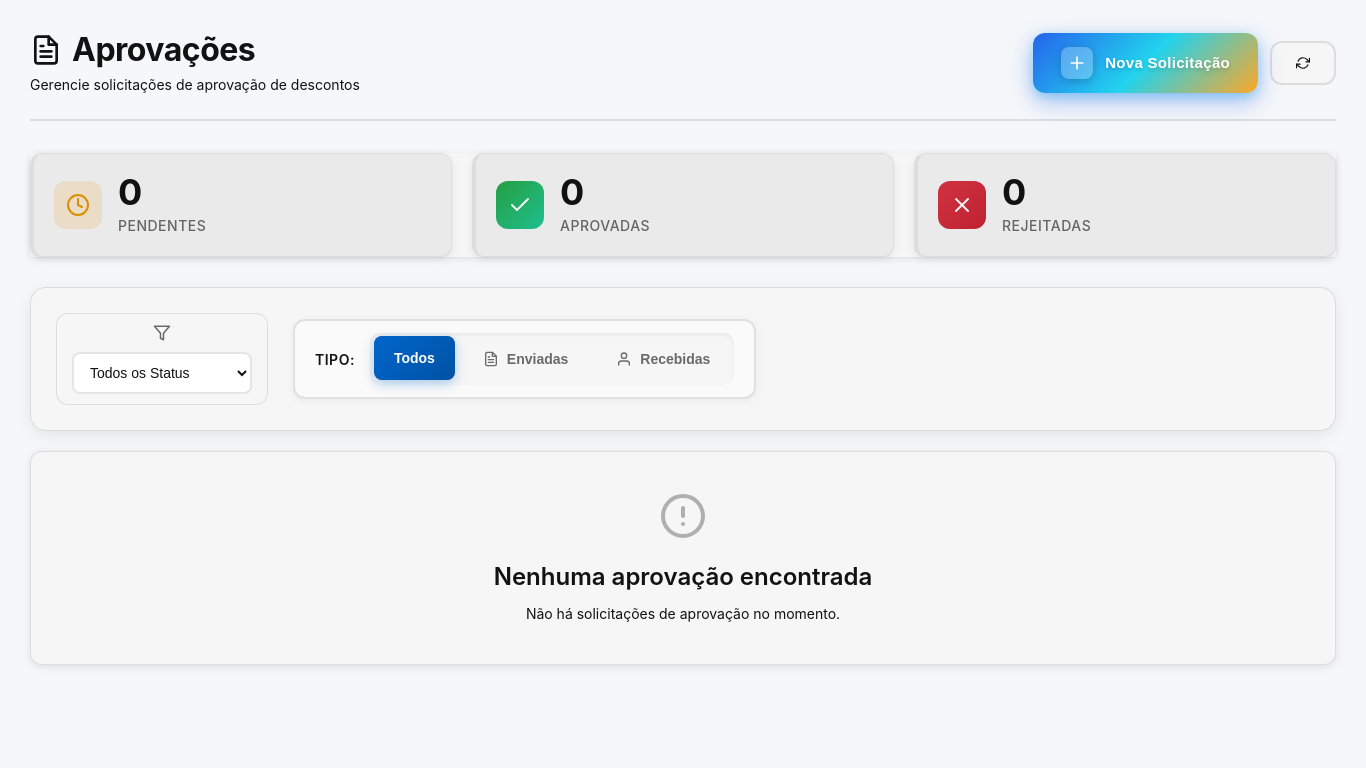
Test: [RN-141.09] o modal esconde só a proposta com aprovação que vale; a decidida por quem pediu continua na lista
Click the button "Nova Solicitação" at (1146, 62), box [1033,32,1258,92]
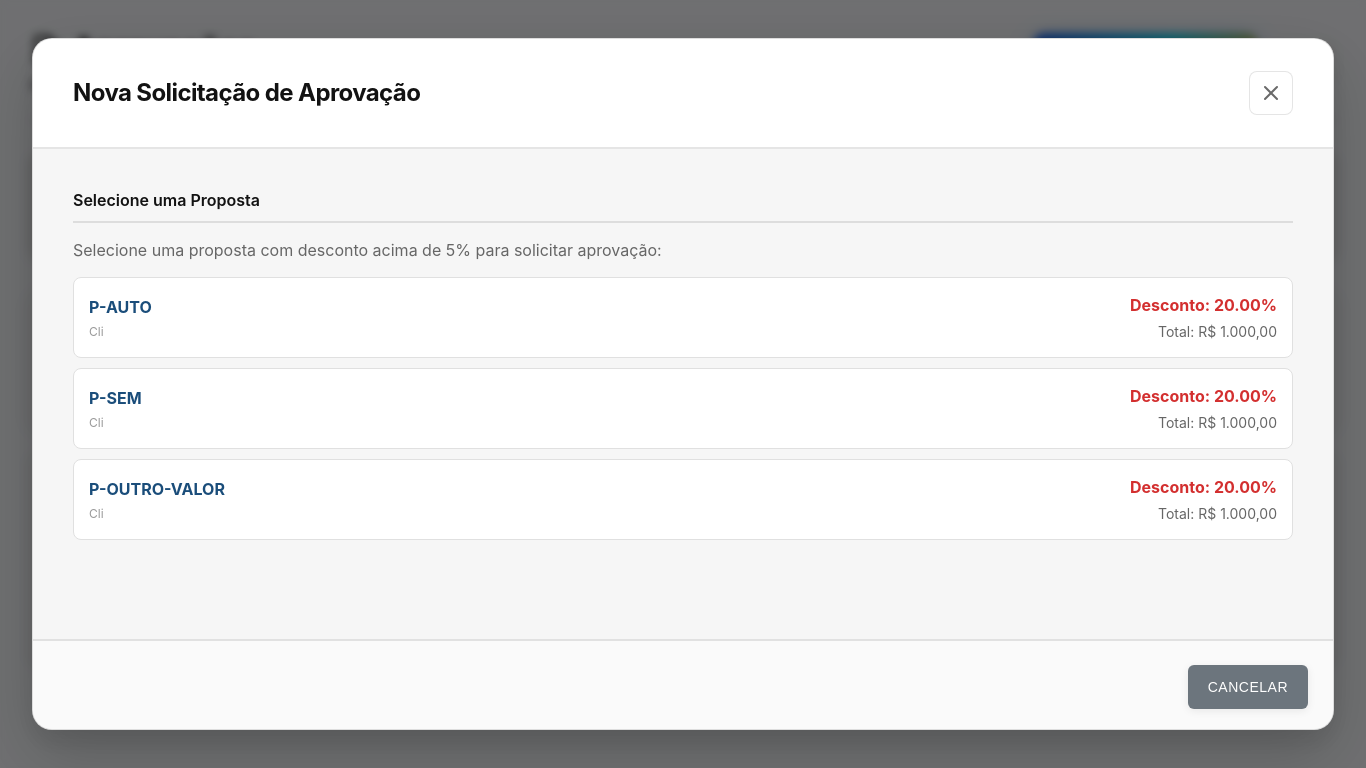
Now the text "P-AUTO" is shown, box [89,296,152,316]
Now the text "P-SEM" is shown, box [89,388,142,408]
Now the text "P-OUTRO-VALOR" is shown, box [89,478,225,498]
